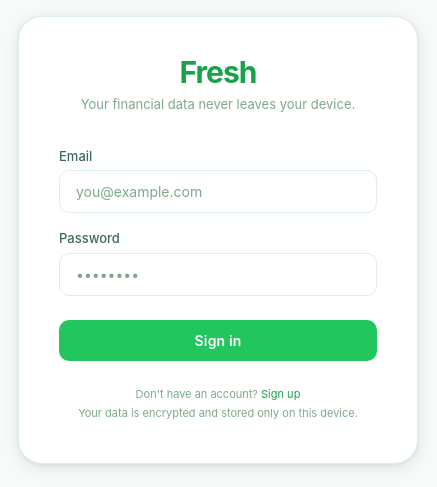
Test: Login › loading state › shows "Signing in…" while the request is in flight
The image size is (437, 487).
In the field labelled "Email": (218, 192) [59,170,377,213], type "a@b.com"
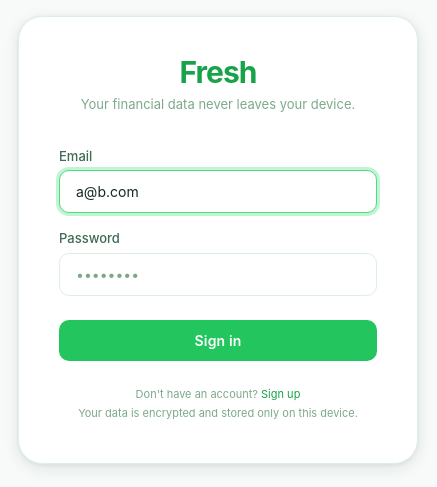
In the password field labelled "Password": (218, 274) [59,252,377,296], type "password"
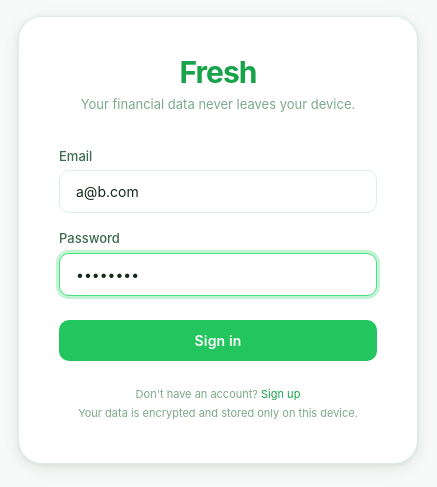
Click the button "Sign in": (218, 340) [59,320,377,360]
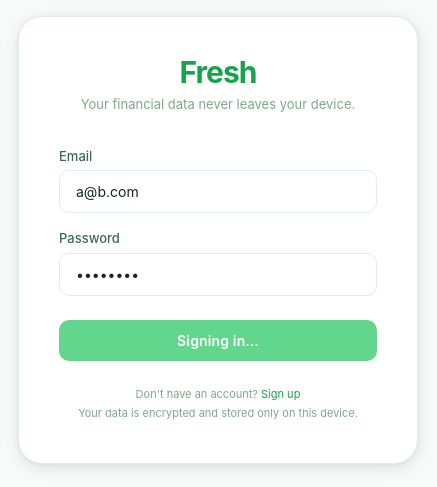
Expected: the button "Signing in…" is disabled, [59,320,377,360]
